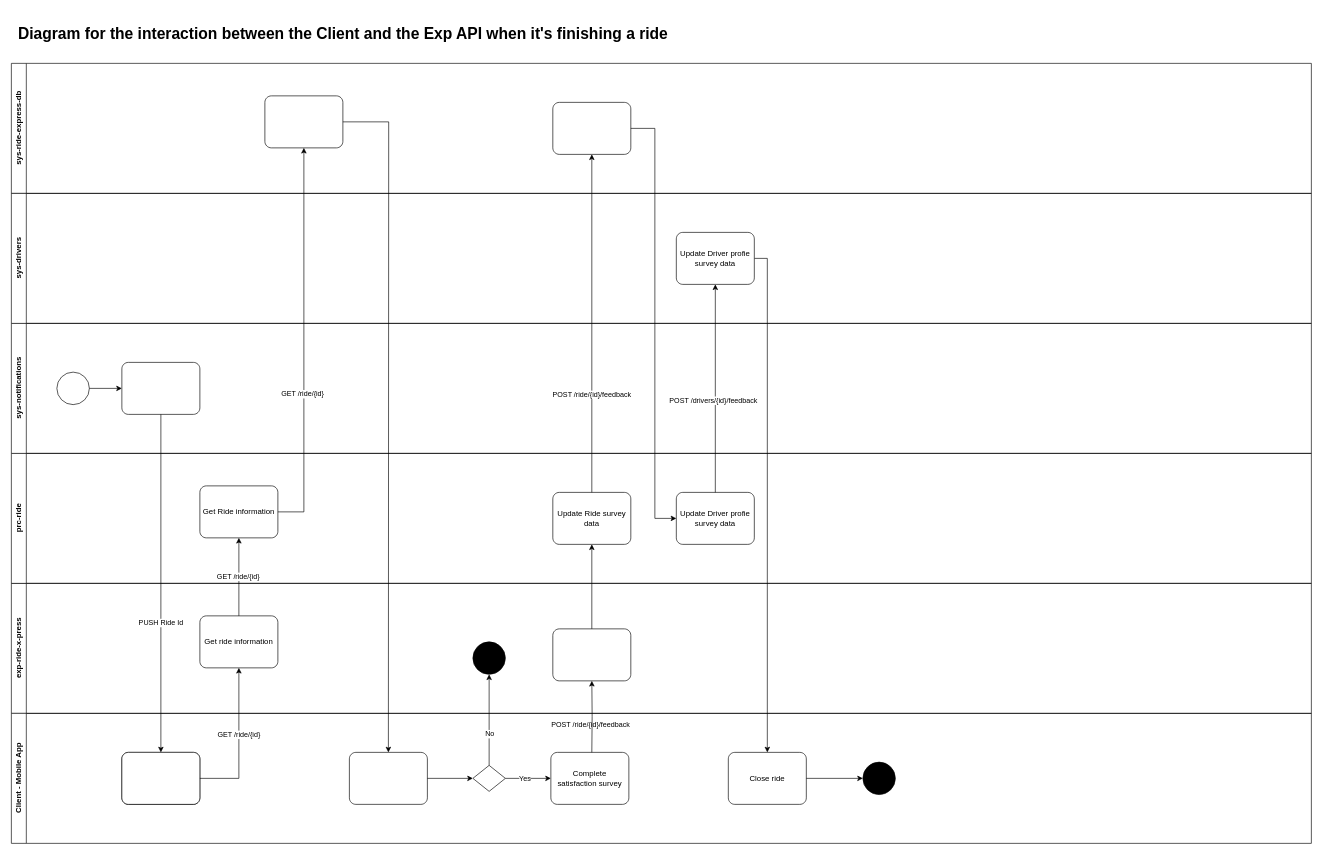
Some shapes in this 1323 by 855 pixel diagram are drawn without their labels. The shapes that lost their labels are listed below. From the top down, each one's centre as x and y in pixels, then its label:
the point at 303,121: Get Ride
the point at 591,128: Update Ride
the point at 160,388: Send notification to client
the point at 591,654: Update Ride with client information
the point at 160,778: Gets ride Information
the point at 388,778: Display Ride information
the point at 488,778: Complete ride/driver evaluation?
